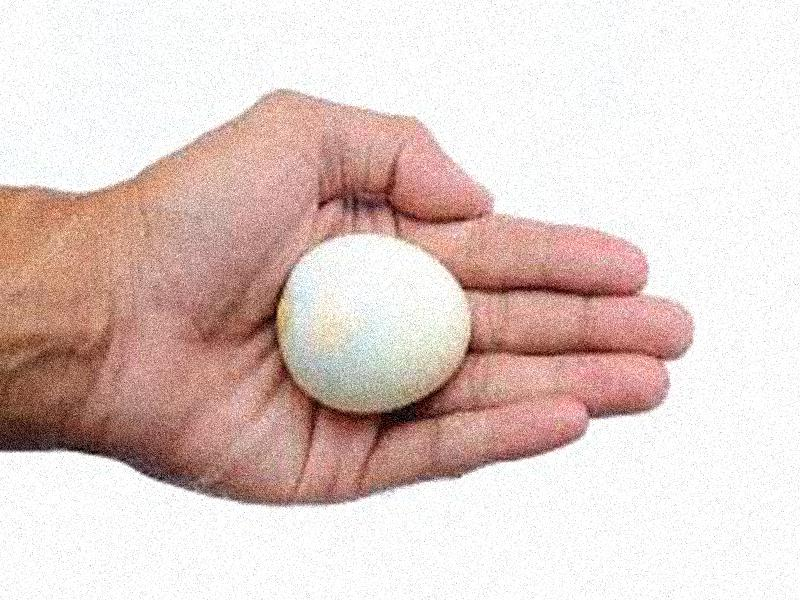Eggs: (277, 237, 474, 409)
